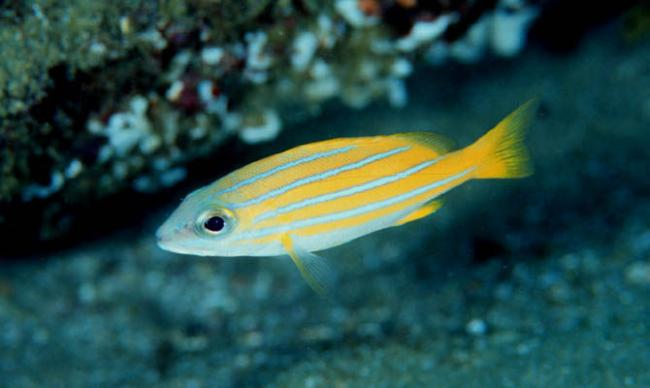fish: (153, 96, 539, 297)
